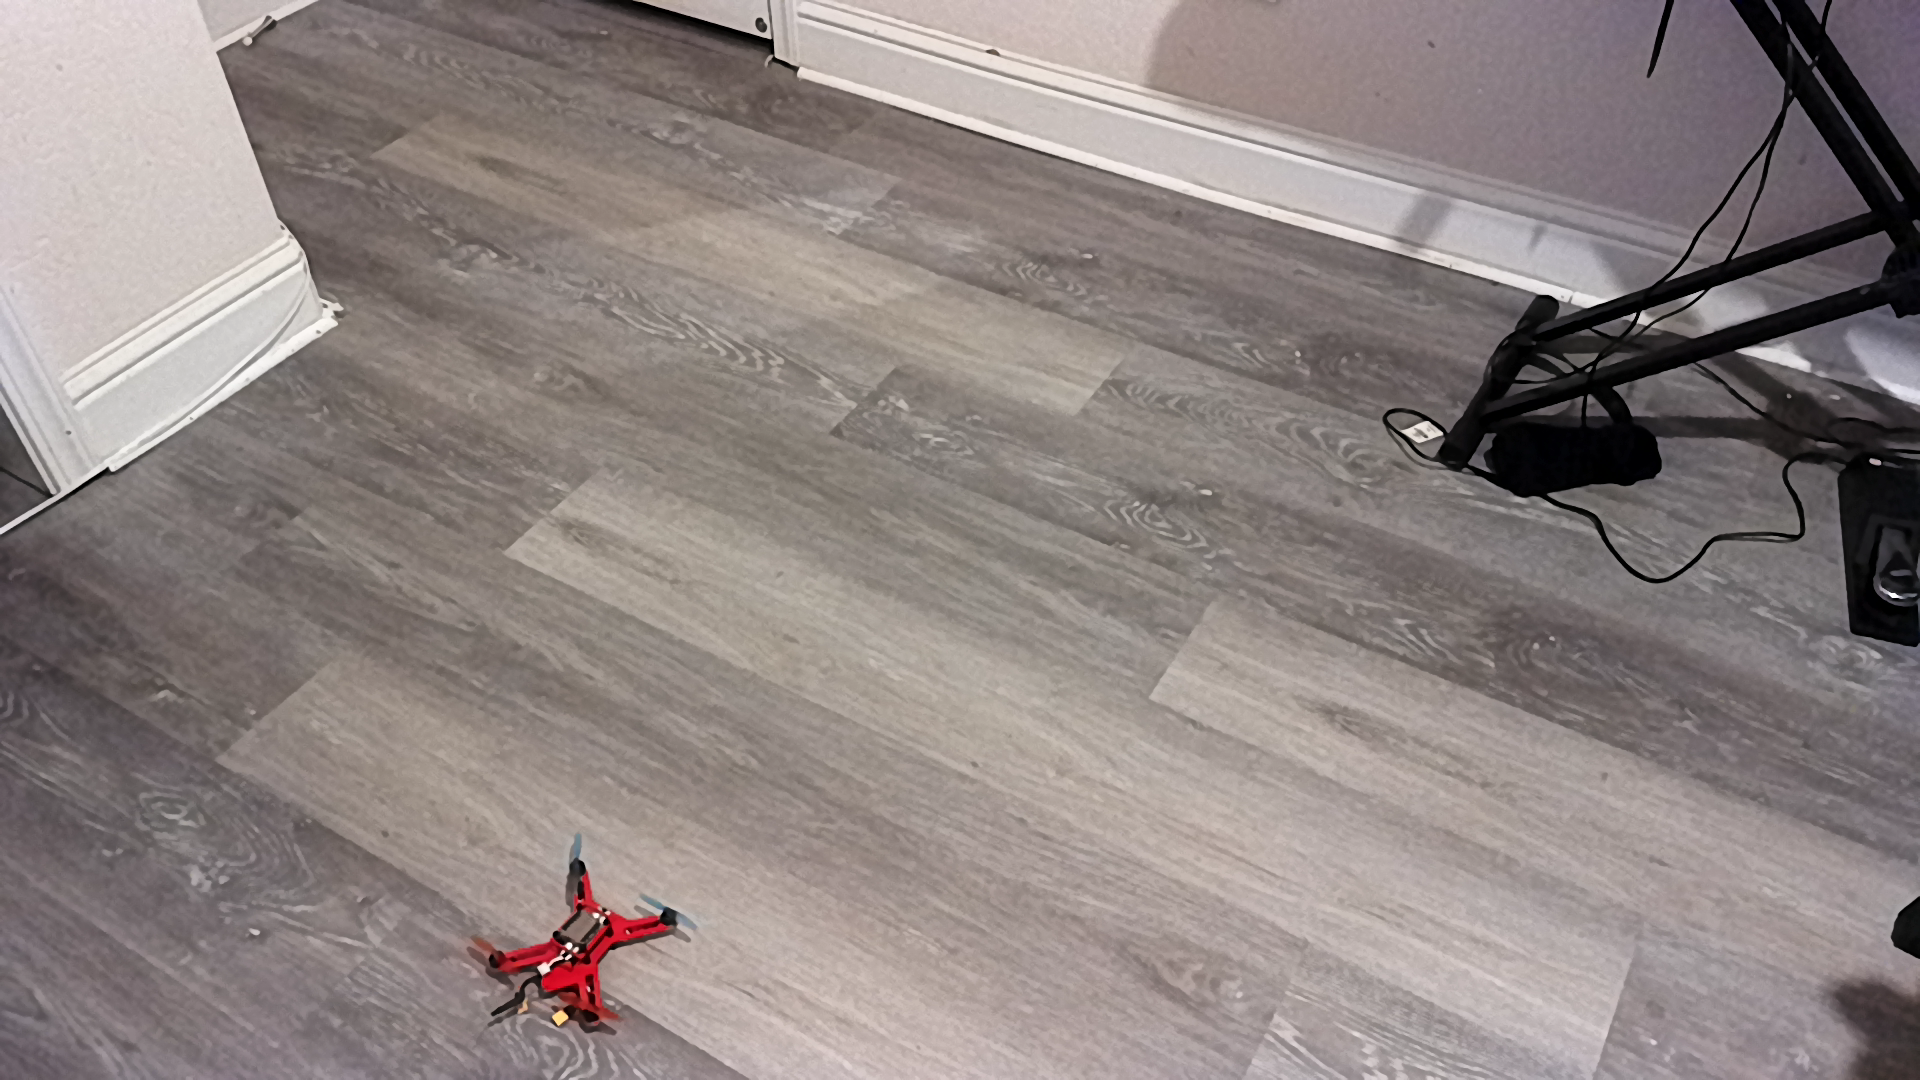drone: (460, 833, 700, 1046)
